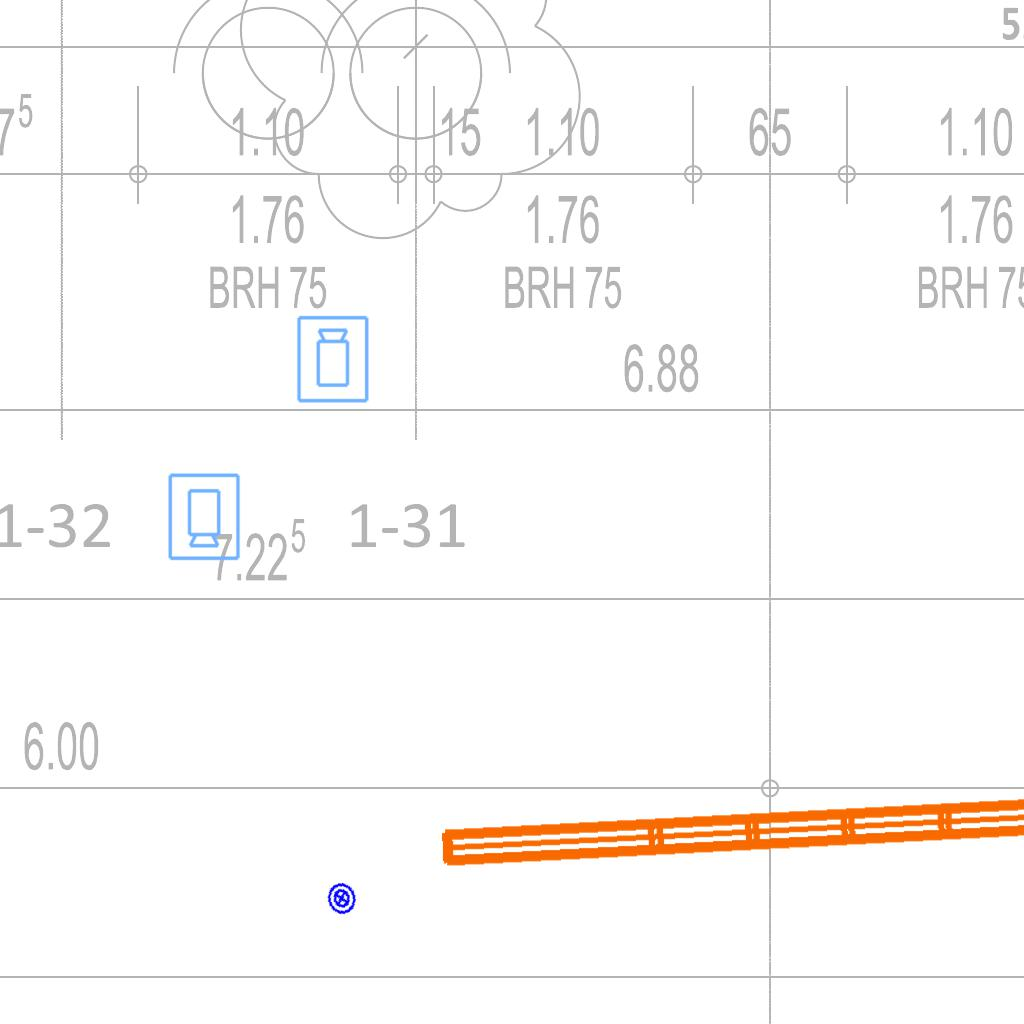Ambulanz_Pendelleuchte_LED: (427, 726, 1024, 880)
KFO_Kamera_mit_Festobjektiv: (295, 314, 372, 405), (165, 471, 242, 562)
Taster_beleuchtet: (321, 878, 362, 919)
